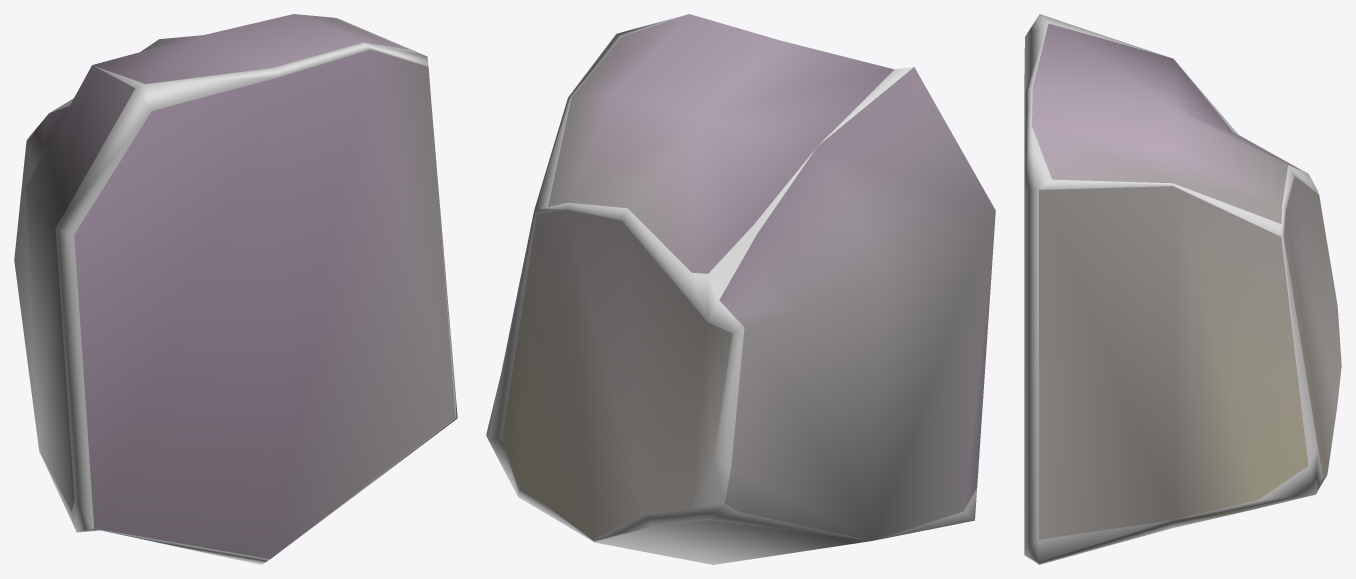
The model's file is PathRockD.fbx.
The picture shows the model from 3 angles, left to right: view 1: azimuth 30°, elevation 25°; view 2: azimuth 150°, elevation 25°; view 3: azimuth 270°, elevation 25°; orthographic projection. The views are drawn at different scales.
Visible parts, largest first — view 1: PathRockD; view 2: PathRockD; view 3: PathRockD.
Boxes of the visible parts, box(x1,y1,x2,y2) form: PathRockD: box(14, 14, 457, 564); PathRockD: box(486, 14, 995, 564); PathRockD: box(1024, 14, 1341, 564).
Size of the model in its own units: 50.58 by 59.96 by 35.1.
